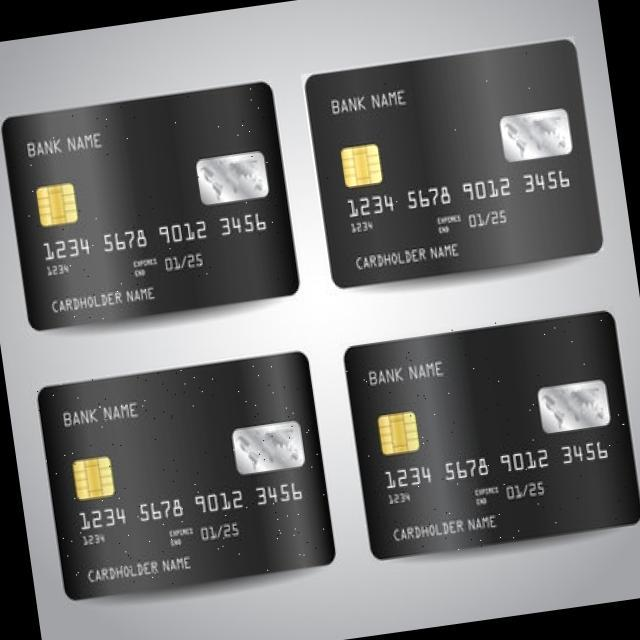payment_card: (302, 36, 603, 288), (1, 80, 299, 330), (37, 350, 335, 600), (342, 310, 640, 558)
